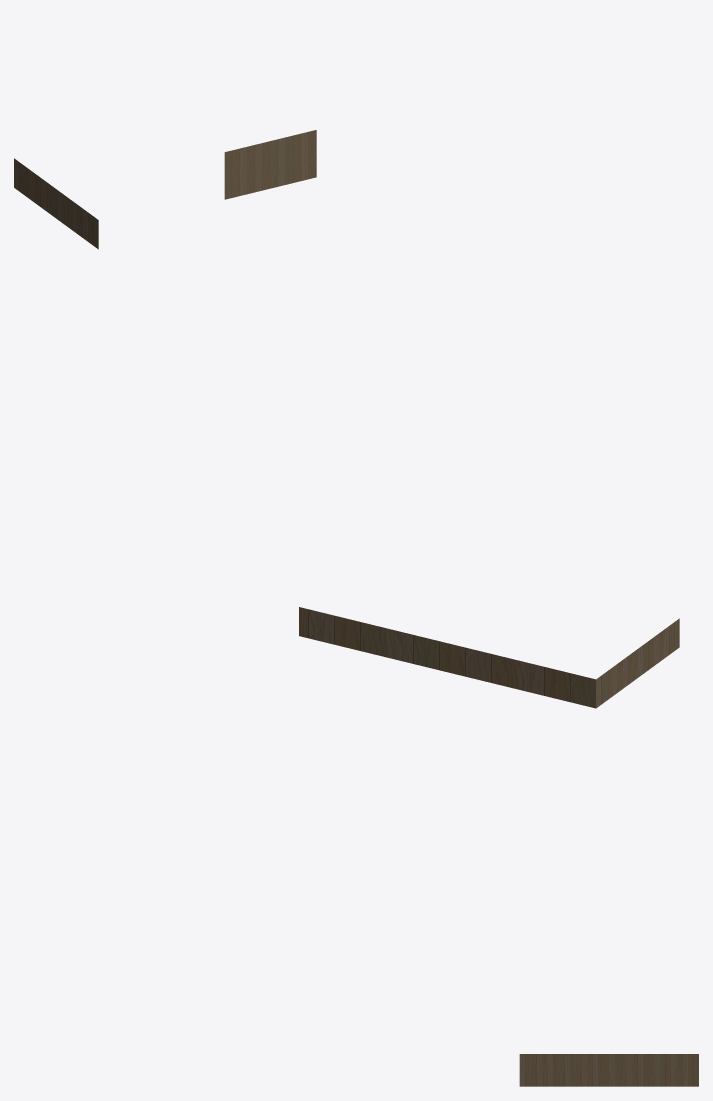
Rendered from kd_stage_135ded_4_9.glb.
3 renders of one model, top to bottom at view 1: azimuth 30°, elevation 25°; view 2: azimuth 150°, elevation 25°; view 3: azimuth 270°, elevation 25°, orthographic. The views are drawn at different scales.
Parts seen in each view (by area): view 1: kd_stage_135ded_4_9; view 2: kd_stage_135ded_4_9; view 3: kd_stage_135ded_4_9.
Boxes of the visible parts, x1,y1,x2,y2 form: kd_stage_135ded_4_9: (14,130,316,249); kd_stage_135ded_4_9: (299,607,679,708); kd_stage_135ded_4_9: (519,1054,698,1086).
Bounding box in the file's own units: 7.1 × 0.8875 × 6.5.
Materials: 1 (1 with a texture image).
